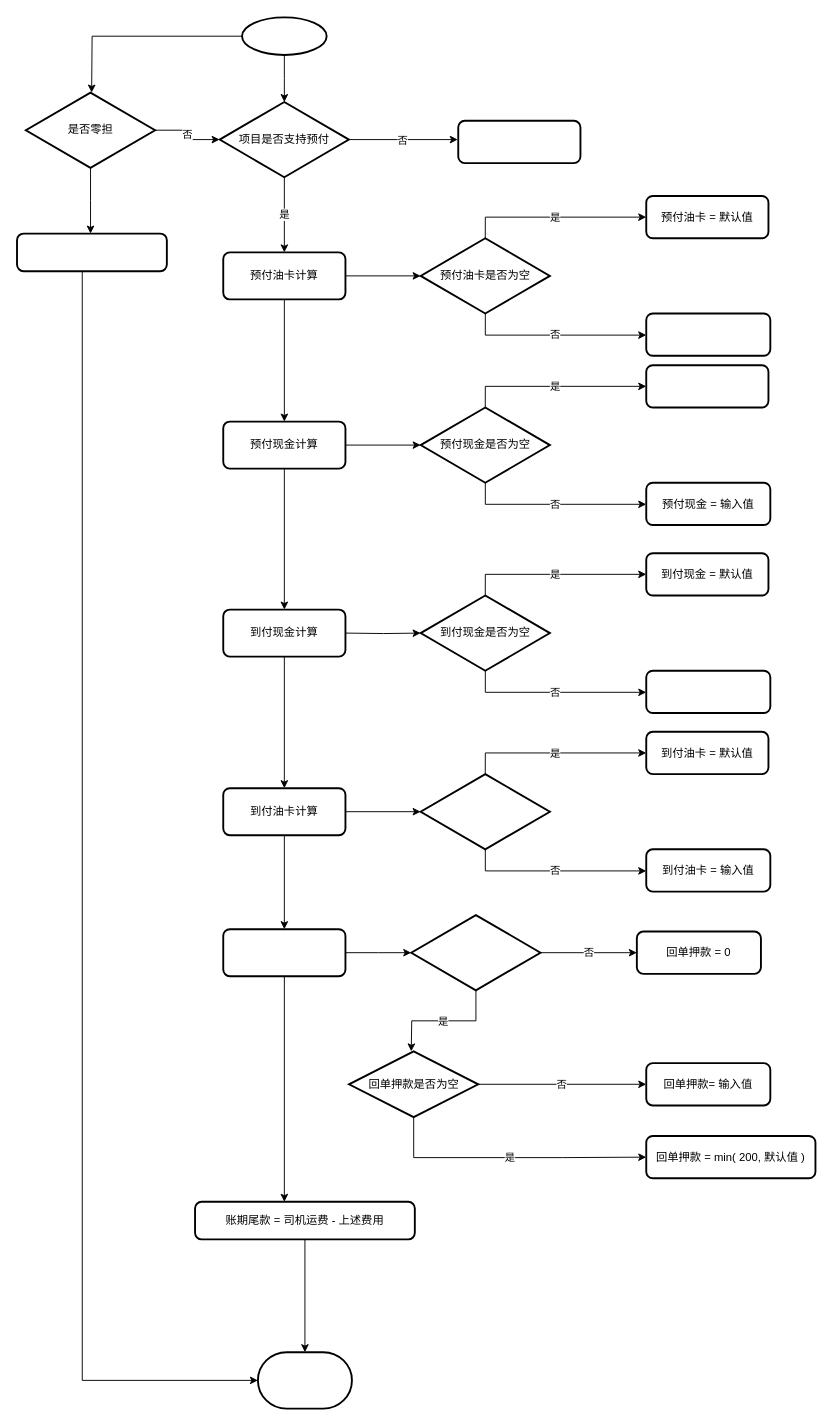
Some shapes in this 833 by 1425 pixel diagram are drawn without their labels. The shapes that lost their labels are listed below. From the top down, each one's centre as x and y in pixels, then its label:
[284,35]: 计算预付
[519,141]: 预付油卡 = 0 预付现金 = 0
[91,252]: 司机运费 = 到付现金 其余分段付全为0
[708,334]: 预付油卡 = 输入值
[707,386]: 预付现金 = 默认值
[708,691]: 到付现金 = 输入值
[484,811]: 到付油卡是否为空
[284,952]: 回单押款
[475,952]: 项目是否需要回单
